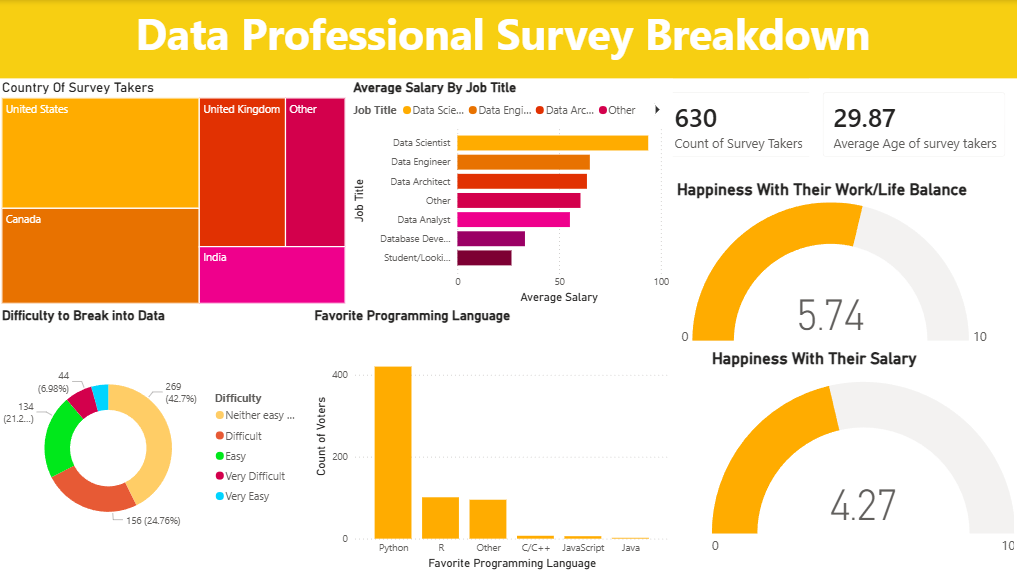

The page's visual inventory and layout, read from the dashboard file:
{"tool":"powerbi","page":{"name":"Page 1","canvas":[1280,720],"ordinal":0},"visuals":[{"type":"textbox","box":[0,0,1280.3,98.7],"z":0},{"type":"cardVisual","fields":{"Data":["CountNonNull(Data Professional Survey.Unique ID)"]},"box":[818,98.7,224.1,116],"z":1000},{"type":"cardVisual","fields":{"Data":["Avg(Data Professional Survey.Q10 - Current Age)"]},"box":[1017,98.7,263.3,116],"z":2000},{"type":"barChart","title":"Average Salary By Job Title","fields":{"Category":["Data Professional Survey.Q1 - Which Title Best Fits your Current Role?.1"],"Y":["Avg(Data Professional Survey.Average Salary)"],"Series":["Data Professional Survey.Q1 - Which Title Best Fits your Current Role?.1"]},"box":[440.4,98.7,405.9,286.8],"z":3000},{"type":"columnChart","title":"Favorite Programming Language","fields":{"Category":["Data Professional Survey.Q5 - Favorite Programming Language.1"],"Y":["CountNonNull(Data Professional Survey.Unique ID)"]},"box":[391.8,385.5,454.5,333.8],"z":4000},{"type":"gauge","title":"Happiness With Their Work/Life Balance","fields":{"Y":["Avg(Data Professional Survey.Q6 - How Happy are you in your Current Position with the following? (Work/Life Balance))"],"MinValue":["Min(Data Professional Survey.Q6 - How Happy are you in your Current Position with the following? (Work/Life Balance))"],"MaxValue":["Max(Data Professional Survey.Q6 - How Happy are you in your Current Position with the following? (Work/Life Balance))"]},"box":[846.2,225.7,404.3,211.6],"z":5000},{"type":"gauge","title":"Happiness With Their Salary","fields":{"Y":["Avg(Data Professional Survey.Q6 - How Happy are you in your Current Position with the following? (Salary))"],"MinValue":["Min(Data Professional Survey.Q6 - How Happy are you in your Current Position with the following? (Salary))"],"MaxValue":["Max(Data Professional Survey.Q6 - How Happy are you in your Current Position with the following? (Salary))"]},"box":[890.1,437.2,390.2,282.1],"z":6000},{"type":"donutChart","title":"Difficulty to Break into Data","fields":{"Category":["Data Professional Survey.Q7 - How difficult was it for you to break into Data?"],"Y":["CountNonNull(Data Professional Survey.Unique ID)"]},"box":[0,385.5,391.8,333.8],"z":7000},{"type":"treemap","title":"Country Of Survey Takers","fields":{"Group":["Data Professional Survey.Q11 - Which Country do you live in?.1"],"Values":["Avg(Data Professional Survey.Average Salary)"]},"box":[0,98.7,440.4,286.8],"z":8000}]}

Visuals, with their boxes in screenshot pixels (x1, y1, x2, y2), scaled from the page's 1280x720 canvas onto the 1017x572 screenshot:
textbox: [0, 0, 1016, 78]
cardVisual - CountNonNull(Data Professional Survey.Unique ID): [650, 78, 828, 171]
cardVisual - Avg(Data Professional Survey.Q10 - Current Age): [808, 78, 1016, 171]
"Average Salary By Job Title" barChart: [350, 78, 672, 306]
"Favorite Programming Language" columnChart: [311, 306, 672, 571]
"Happiness With Their Work/Life Balance" gauge: [672, 179, 994, 347]
"Happiness With Their Salary" gauge: [707, 347, 1016, 571]
"Difficulty to Break into Data" donutChart: [0, 306, 311, 571]
"Country Of Survey Takers" treemap: [0, 78, 350, 306]
